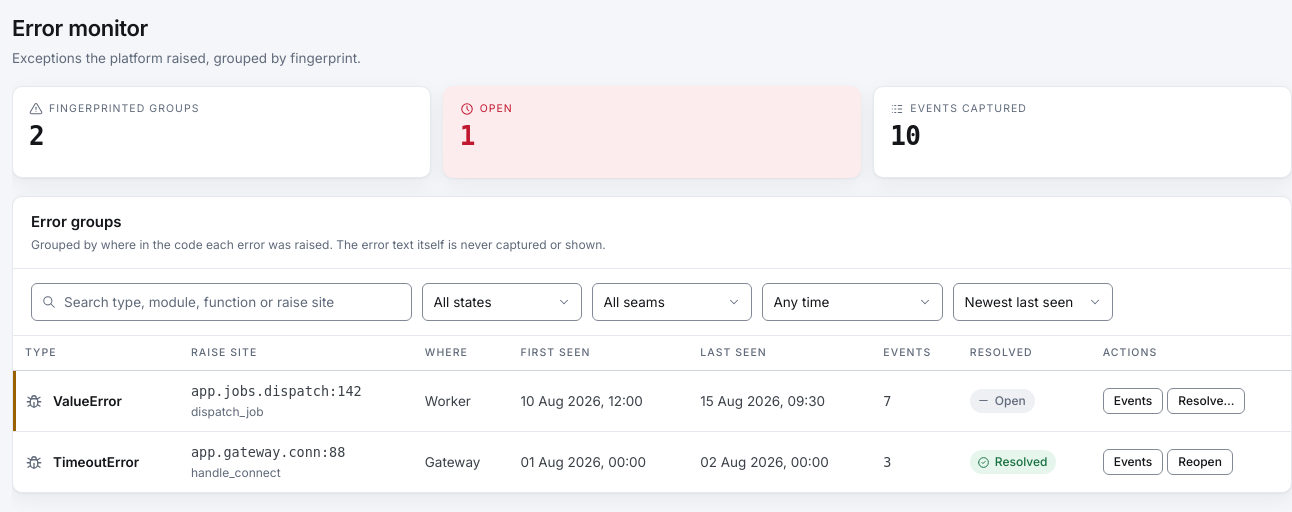
Test: ErrorMonitorPage reopen › shows the group as open again without a manual refresh
This screenshot has width=1292, height=512.
Expected: the text "Resolved" is shown, top-left (970, 450), bottom-right (1056, 474)
Click the button "Reopen": coordinates (1200, 462) top-left (1167, 449), bottom-right (1233, 475)
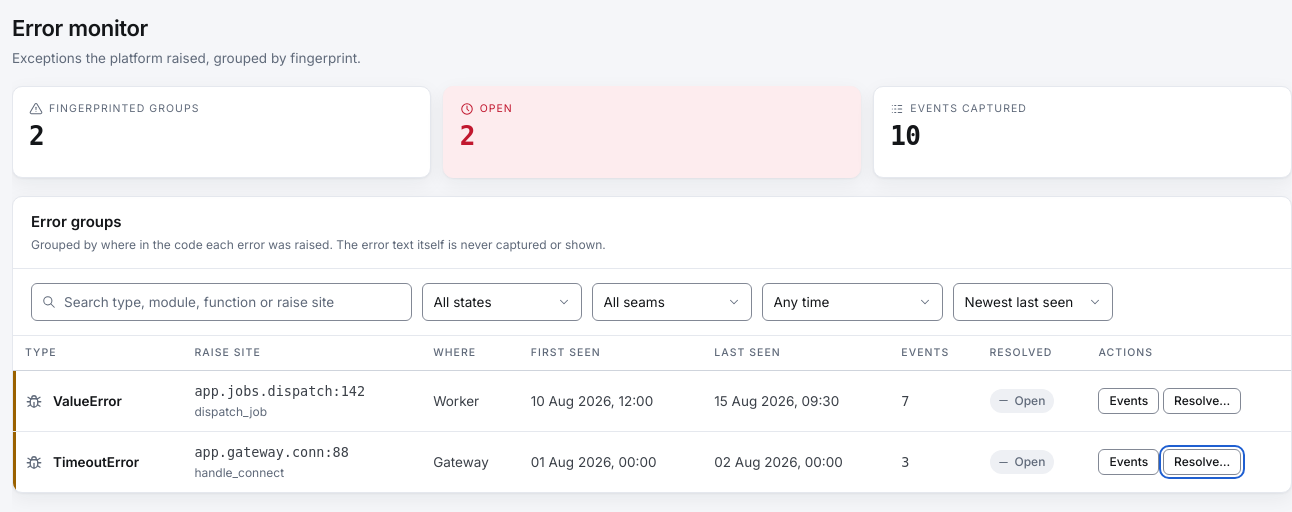
Now the text "Open" in the row of "TimeoutError" is shown, box top-left (1014, 454), bottom-right (1045, 469)
Now the button "Resolve…" in the row of "TimeoutError" is shown, box top-left (1163, 449), bottom-right (1241, 475)
